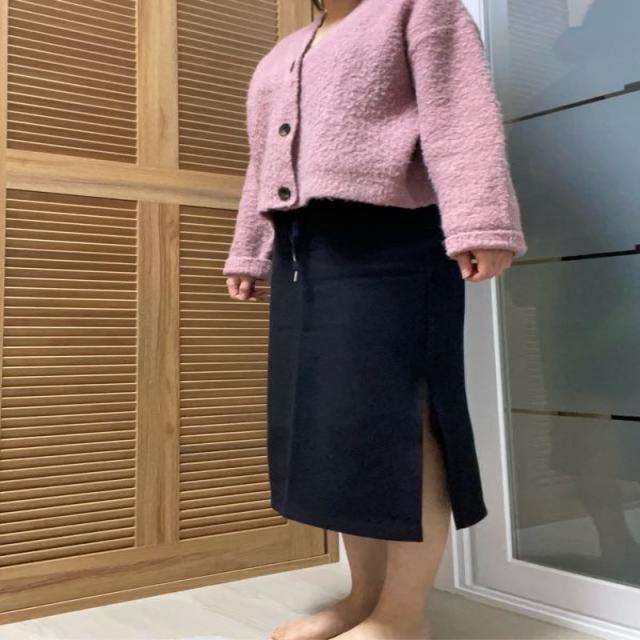cardigan: (219, 3, 528, 276)
skirt: (258, 196, 486, 542)
